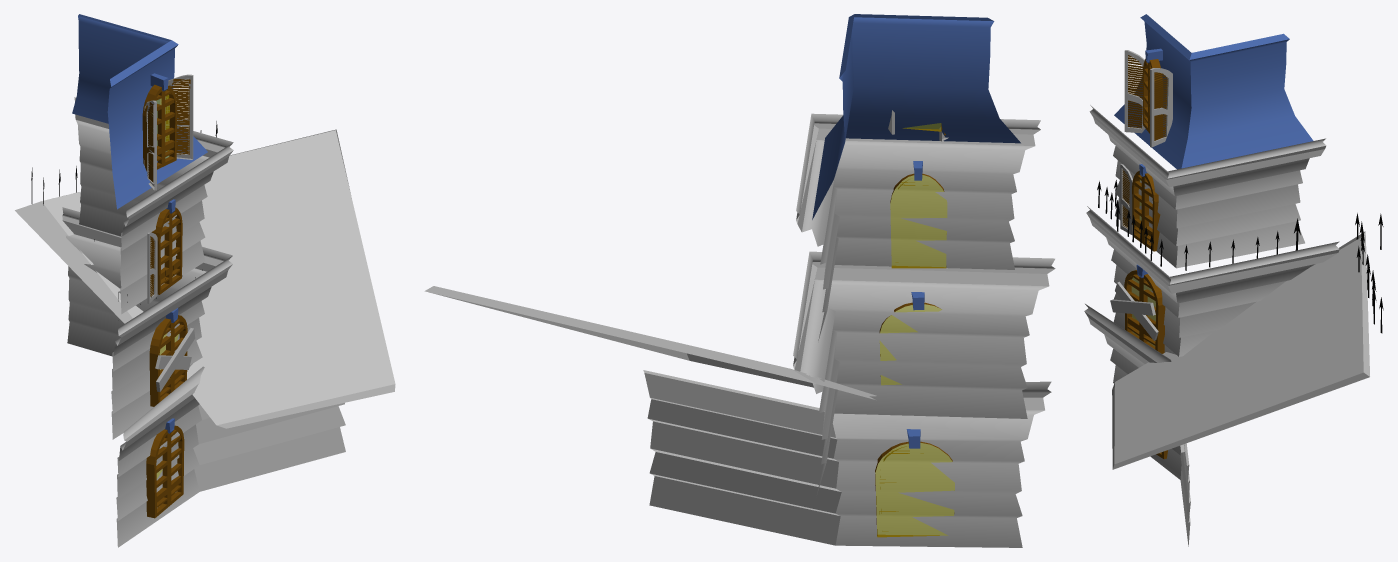
Rendered from garage only to seprerate.fbx.
The picture shows the model from 3 angles, left to right: view 1: azimuth 30°, elevation 25°; view 2: azimuth 150°, elevation 25°; view 3: azimuth 270°, elevation 25°; orthographic projection. The views are drawn at different scales.
Parts seen in each view (by area): view 1: polySurface38, pCube4, pCube107, pCube106, pCube109, pCube105, window_cover1, pCube108, window_cover, window_cover2; view 2: polySurface38, pCube4, pCube107, pCube105, pCube109; view 3: polySurface38, pCube4, pCube109, pCube105, window_cover1, window_cover, polySurface34, pCube108, pCube106, window_cover2, polySurface39.
Part boxes in pixels (box(x1,y1,x2,y2)): polySurface38: box(15, 97, 395, 547); pCube4: box(72, 14, 207, 209); pCube107: box(146, 418, 184, 518); pCube106: box(142, 73, 176, 171); pCube109: box(149, 308, 187, 406); pCube105: box(151, 199, 182, 294); window_cover1: box(160, 74, 193, 159); pCube108: box(155, 328, 195, 391); window_cover: box(144, 100, 156, 190); window_cover2: box(147, 232, 157, 303); polySurface38: box(424, 113, 1055, 547); pCube4: box(812, 14, 1020, 219); pCube107: box(875, 429, 954, 537); pCube105: box(890, 161, 946, 268); pCube109: box(879, 292, 941, 384); polySurface38: box(1084, 105, 1369, 546); pCube4: box(1114, 14, 1313, 169); pCube109: box(1124, 264, 1165, 353); pCube105: box(1132, 164, 1160, 251); window_cover1: box(1150, 68, 1172, 147); window_cover: box(1124, 50, 1145, 133); polySurface34: box(1097, 180, 1300, 270); pCube108: box(1110, 281, 1158, 340); pCube106: box(1142, 48, 1163, 139); window_cover2: box(1120, 164, 1132, 235); polySurface39: box(1355, 213, 1383, 333).
Bounding box in the file's own units: 9.96 × 11.38 × 7.4.
